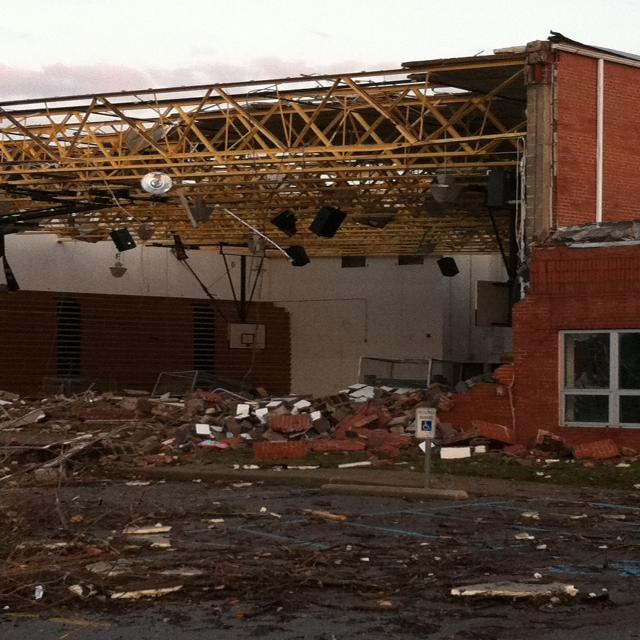Severely_Damaged: (0, 32, 600, 503)
